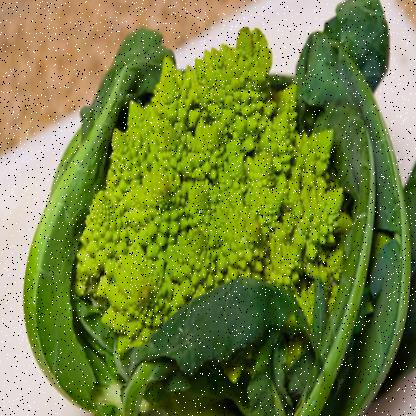cauliflower: (45, 35, 399, 412)
